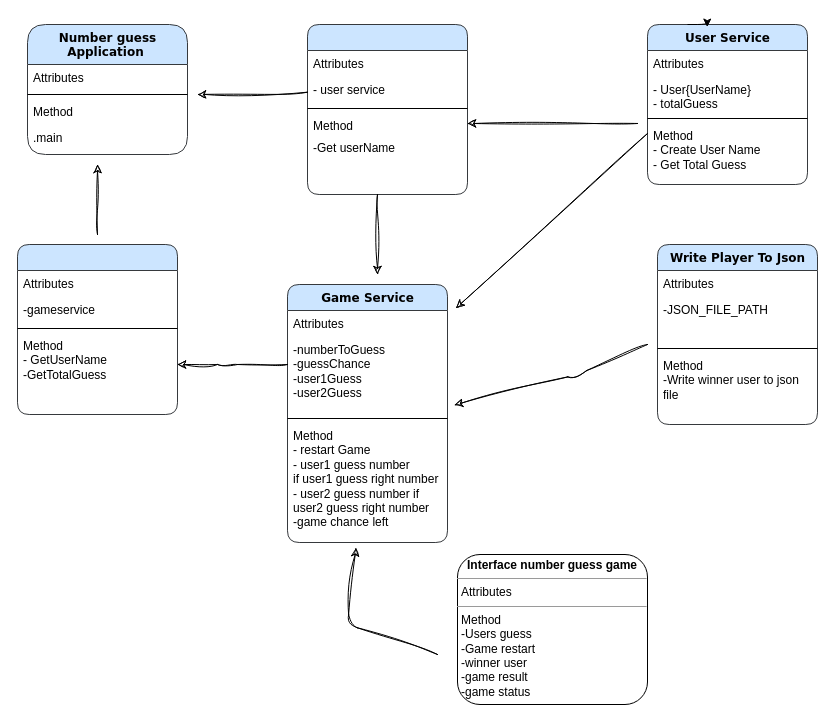
Image size: 835x722. Some labels were removed from this diagram. Here are the shapes that lost their labels. From the top down, the box of each, then its label:
(306, 24, 468, 194): User Controll
(16, 244, 178, 414): Game Controll
